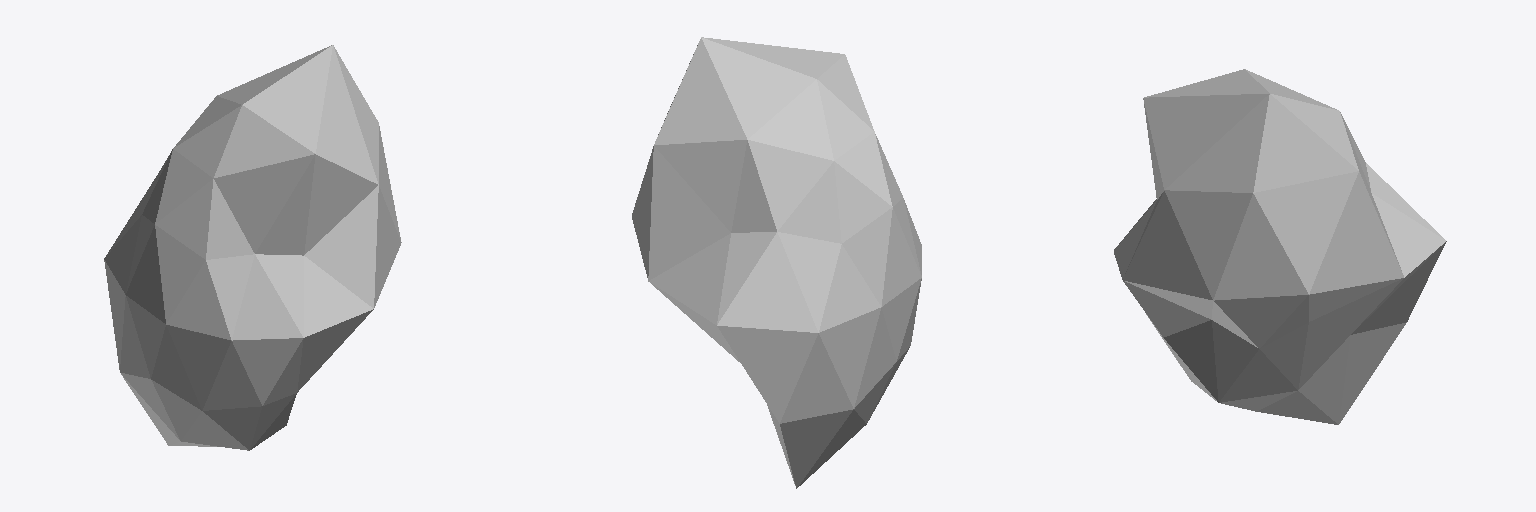
The model's file is meat 3.obj.
3 renders of one model, left to right at view 1: azimuth 30°, elevation 25°; view 2: azimuth 150°, elevation 25°; view 3: azimuth 270°, elevation 25°, orthographic.
Parts seen in each view (by area): view 1: Icosphere; view 2: Icosphere; view 3: Icosphere.
Part boxes in pixels (x1,y1,x2,y2): Icosphere: (104, 45, 401, 450); Icosphere: (632, 37, 921, 488); Icosphere: (1114, 69, 1446, 424).
Size of the model in its own units: 2.71 by 4.19 by 3.2.